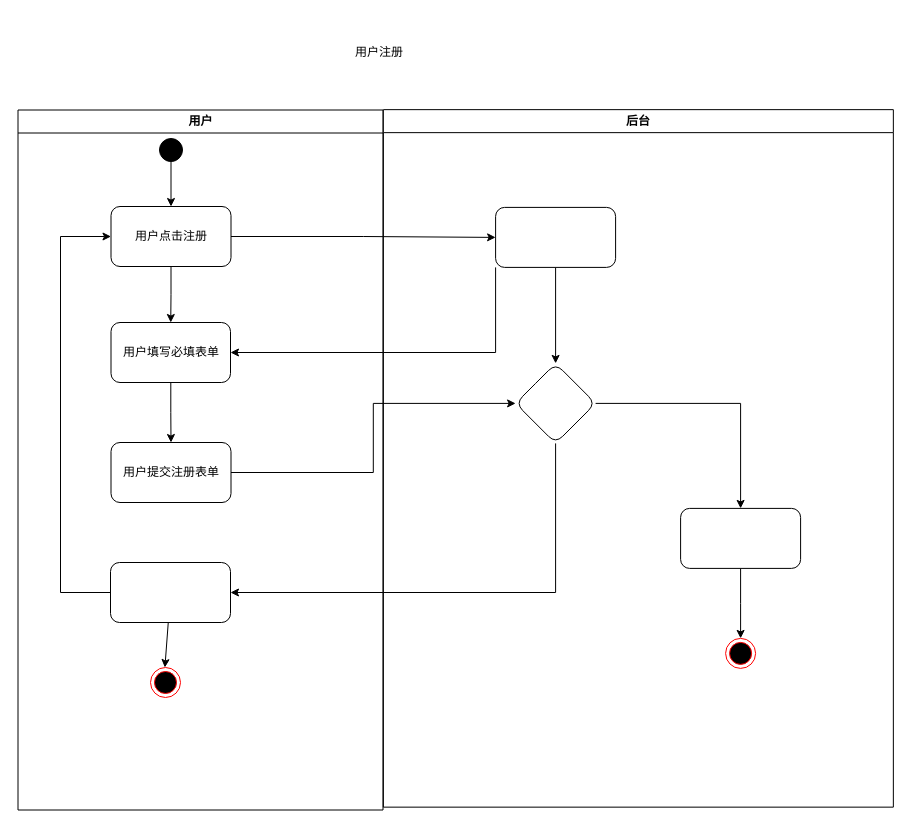
Some shapes in this 911 by 827 pixel diagram are drawn without their labels. The centre of each missing label's shape, as x and y in pixels:
"未满足注册要求，注册失败" belongs at pixel 170 592.
"注册成功，记录账户信息" belongs at pixel 740 537.
"系统显示注册表单" belongs at pixel 555 236.
